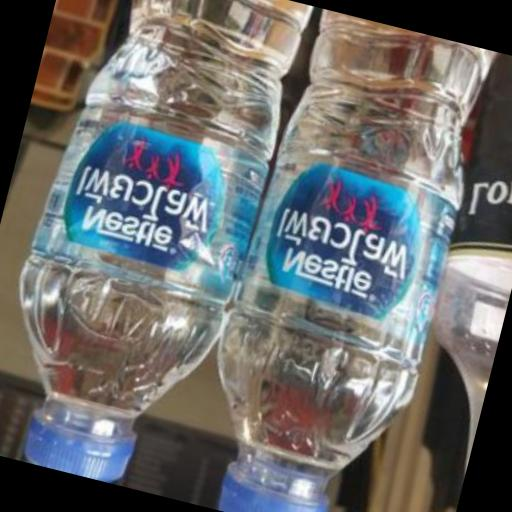Coca: (168, 3, 509, 512), (0, 0, 319, 505)
